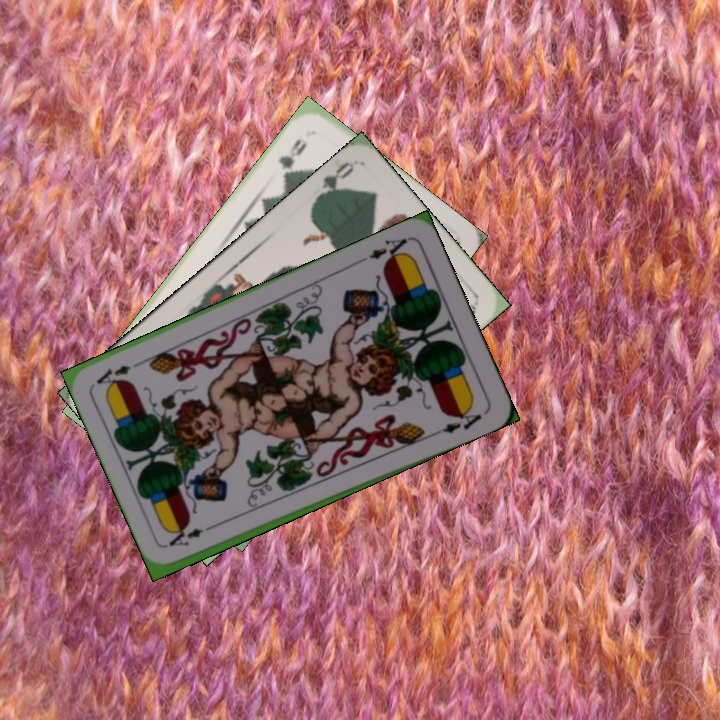EA: (165, 519, 221, 549), (365, 234, 411, 266)
G9: (274, 135, 310, 180)
GO: (310, 157, 357, 206)
